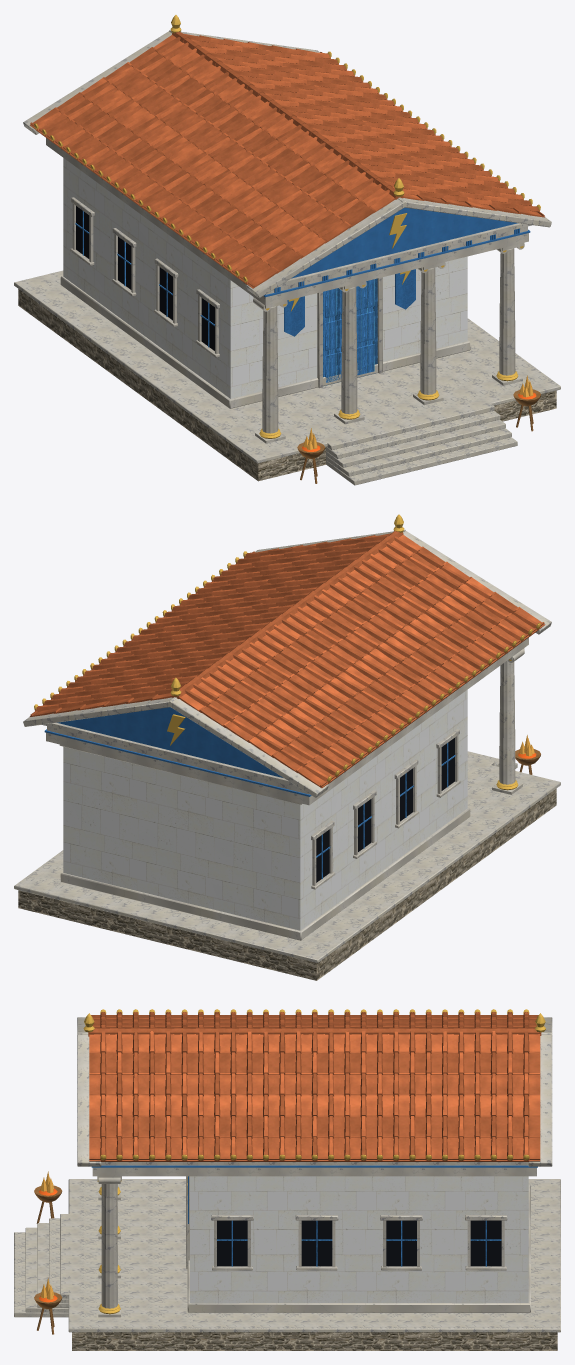
Rendered from civic_library.glb.
3 renders of one model, top to bottom at view 1: azimuth 30°, elevation 25°; view 2: azimuth 150°, elevation 25°; view 3: azimuth 270°, elevation 25°, orthographic.
Parts seen in each view (by area): view 1: step, marble, hall.001, terracotta1, terracotta0, terracotta2, stone, paint_azure, azure_wood, gold, dark, cloth_azure (+1 smaller); view 2: hall.001, terracotta1, terracotta0, terracotta2, marble, step, stone, paint_azure, dark, gold; view 3: hall.001, step, terracotta1, terracotta0, terracotta2, marble, stone, dark, gold, paint_azure, bronze, azure_wood.
Part boxes in pixels (x1,y1,x2,y2): step: [14, 270, 560, 485]; marble: [23, 30, 551, 443]; hall.001: [63, 158, 467, 398]; terracotta1: [30, 31, 544, 287]; terracotta0: [30, 35, 544, 288]; terracotta2: [35, 33, 523, 272]; stone: [18, 289, 556, 481]; paint_azure: [263, 207, 530, 297]; azure_wood: [75, 211, 377, 386]; gold: [34, 15, 540, 438]; dark: [76, 206, 214, 350]; cloth_azure: [284, 269, 415, 336]; hall.001: [63, 690, 467, 930]; terracotta1: [30, 531, 544, 786]; terracotta0: [29, 535, 545, 787]; terracotta2: [35, 533, 523, 782]; marble: [23, 529, 551, 940]; step: [14, 751, 560, 962]; stone: [18, 788, 556, 980]; paint_azure: [44, 707, 311, 796]; dark: [316, 738, 454, 882]; gold: [34, 514, 540, 790]; hall.001: [190, 1176, 528, 1303]; step: [14, 1179, 560, 1332]; terracotta1: [88, 1012, 541, 1160]; terracotta0: [89, 1012, 540, 1161]; terracotta2: [89, 1012, 540, 1160]; marble: [77, 1017, 552, 1317]; stone: [72, 1332, 557, 1350]; dark: [217, 1220, 501, 1266]; gold: [83, 1009, 545, 1314]; paint_azure: [91, 1165, 537, 1167]; bronze: [34, 1185, 62, 1334]; azure_wood: [217, 1220, 501, 1266].
Size of the model in its own units: 10.4 by 8.53 by 16.
16 materials, 12 textured.
